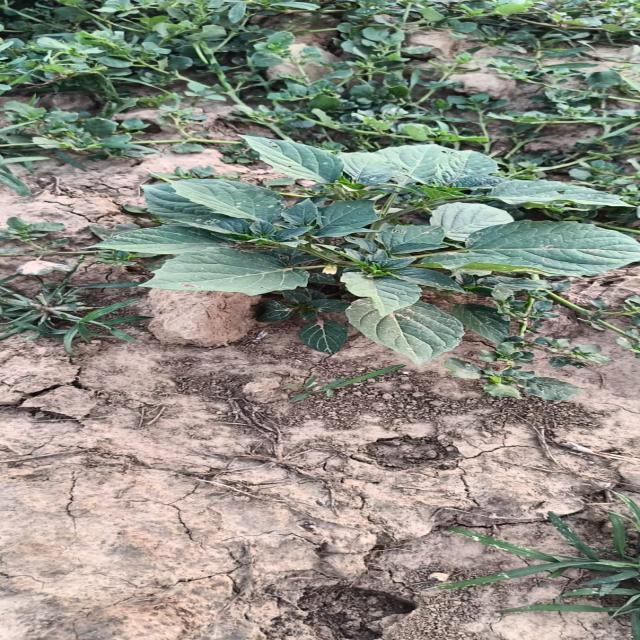plant: (93, 135, 639, 364)
